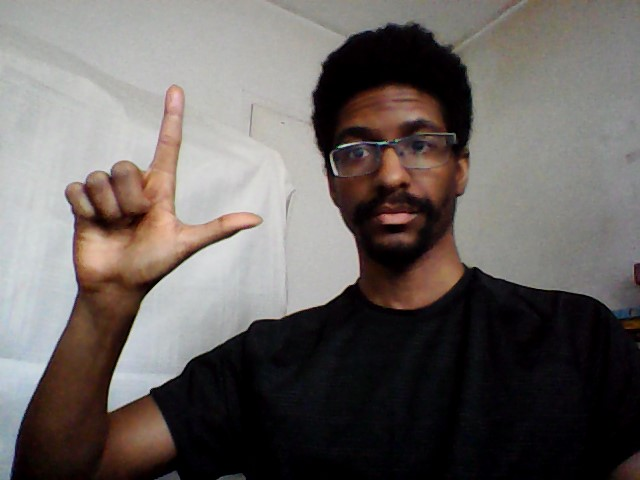l: (63, 82, 266, 299)
